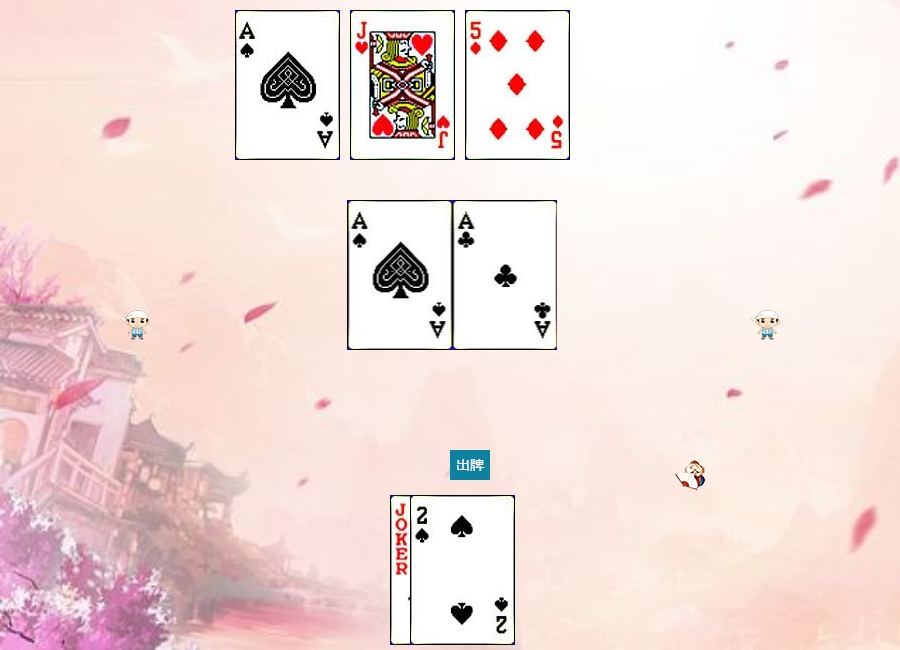11~3: (350, 10, 455, 160)
14~2: (453, 200, 558, 350)
14~4: (235, 10, 340, 160), (348, 200, 453, 350)
15~4: (410, 495, 515, 645)
18~4: (390, 495, 495, 645)
5~1: (465, 10, 570, 160)
